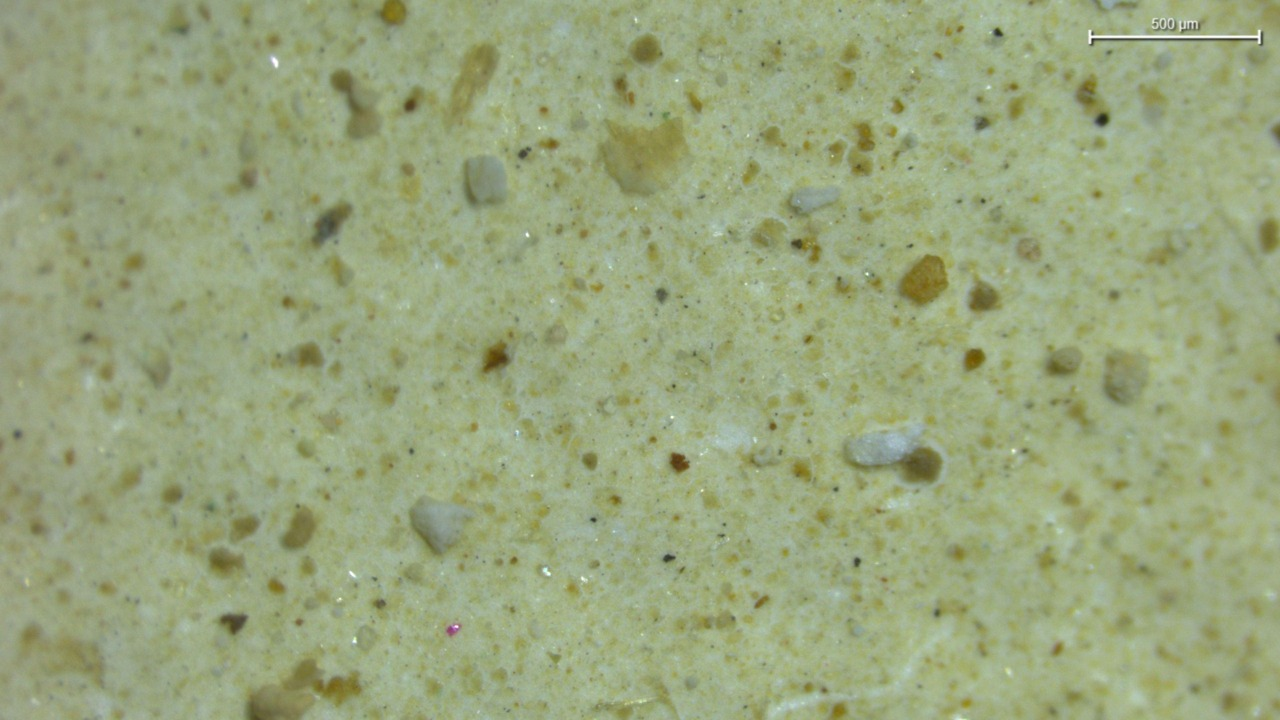microplastic_fragment: (597, 118, 689, 195), (410, 497, 473, 553), (846, 426, 923, 466), (901, 254, 947, 304), (465, 156, 507, 204), (791, 185, 840, 213)
